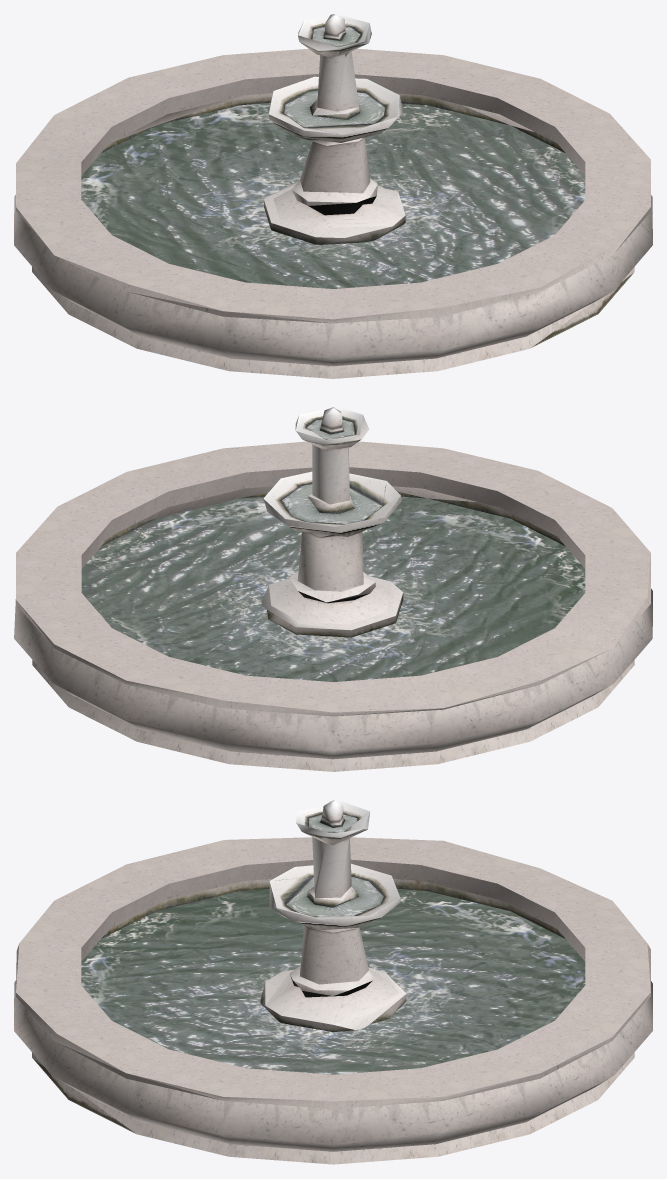
File: fontana_normale.001_LOD2.fbx
3 renders of one model, top to bottom at view 1: azimuth 30°, elevation 25°; view 2: azimuth 150°, elevation 25°; view 3: azimuth 270°, elevation 25°, orthographic.
Visible parts, largest first — view 1: fontana_normale_001; view 2: fontana_normale_001; view 3: fontana_normale_001.
Boxes of the visible parts, x1=… form: fontana_normale_001: x1=14, y1=14, x2=652, y2=378; fontana_normale_001: x1=14, y1=407, x2=652, y2=771; fontana_normale_001: x1=14, y1=800, x2=652, y2=1164.
Bounding box in the file's own units: 656 × 262 × 647.
Materials: 3 (3 with a texture image).
